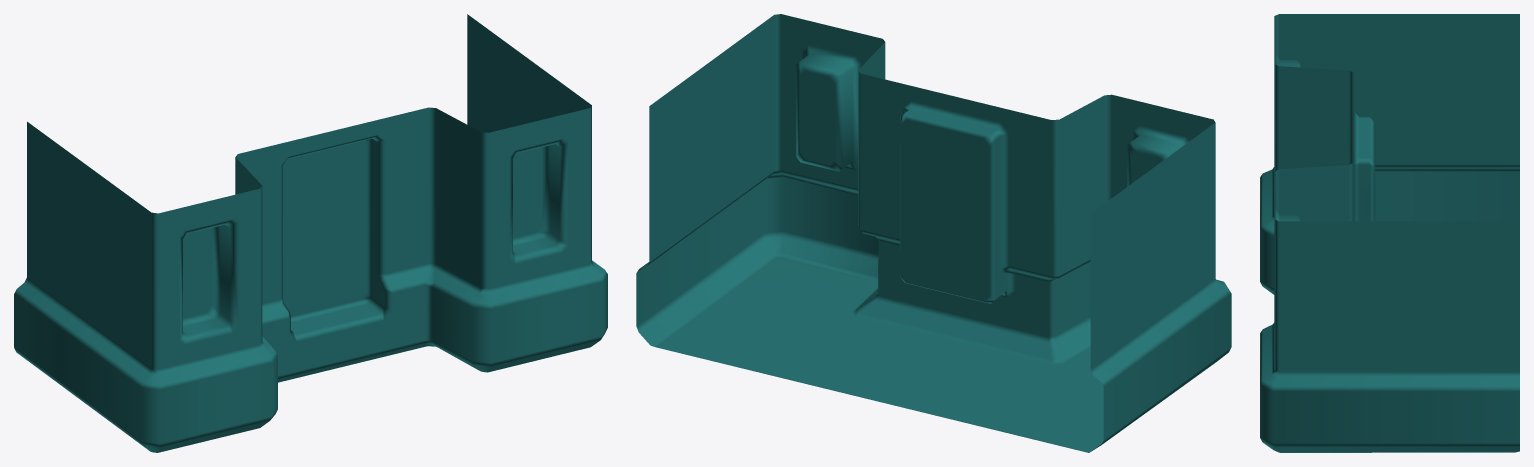
Rendered from SM_Building_Bottom_02.fbx.
3 renders of one model, left to right at view 1: azimuth 30°, elevation 25°; view 2: azimuth 150°, elevation 25°; view 3: azimuth 270°, elevation 25°, orthographic. The views are drawn at different scales.
Visible parts, largest first — view 1: Box025; view 2: Box025; view 3: Box025.
Part boxes in pixels (<box>): Box025: <box>14,14,607,452</box>; Box025: <box>636,14,1231,452</box>; Box025: <box>1260,14,1519,452</box>.
Bounding box in the file's own units: 635 × 314 × 318.
